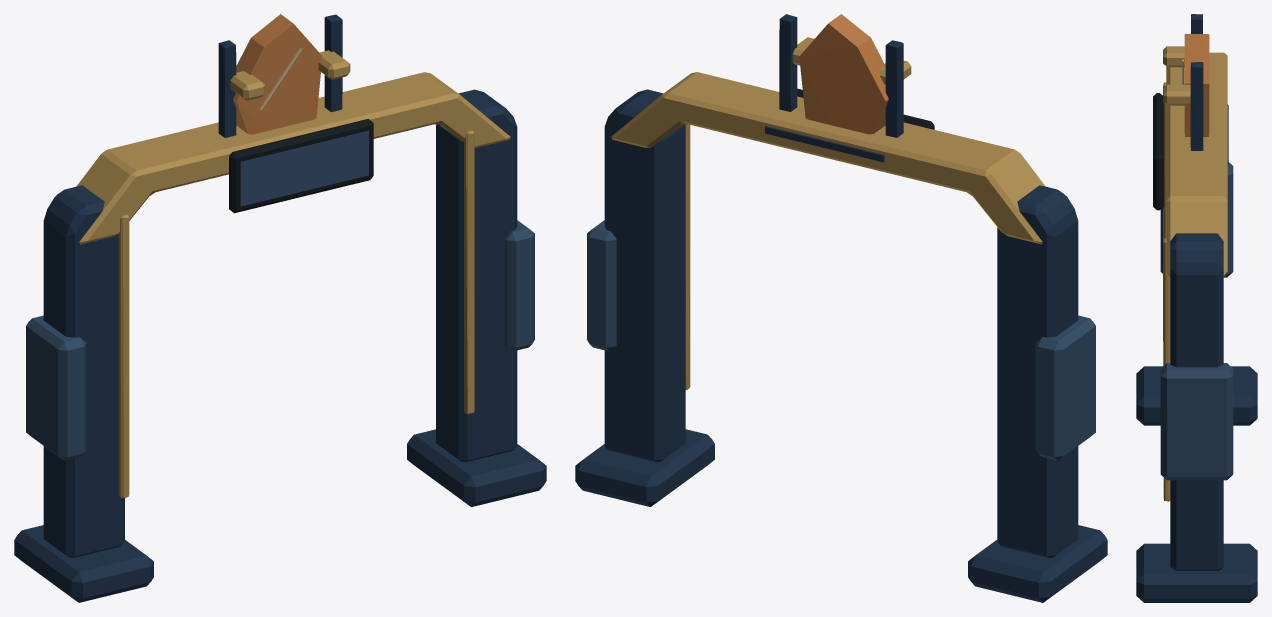
The model's file is FIRE_RATE_CELL_GATE.lo.glb.
3 renders of one model, left to right at view 1: azimuth 30°, elevation 25°; view 2: azimuth 150°, elevation 25°; view 3: azimuth 270°, elevation 25°, orthographic. The views are drawn at different scales.
Parts seen in each view (by area): view 1: Body_Mesh, SignSurface; view 2: Body_Mesh; view 3: Body_Mesh.
Boxes of the visible parts, box(x1,y1,x2,y2) form: Body_Mesh: box(14, 14, 546, 602); SignSurface: box(240, 130, 368, 206); Body_Mesh: box(575, 14, 1107, 602); Body_Mesh: box(1136, 14, 1257, 602).
Size of the model in its own units: 3.23 by 3.27 by 0.77.
